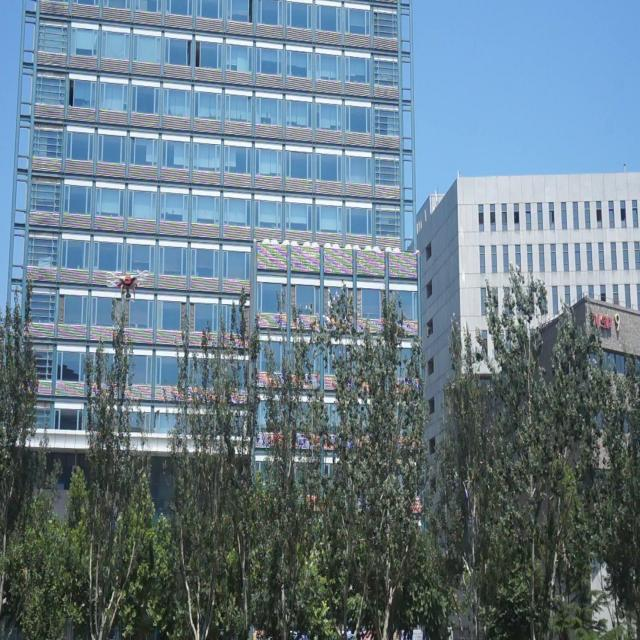UAV: (107, 270, 149, 304)
